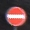No entry: (5, 6, 25, 25)
